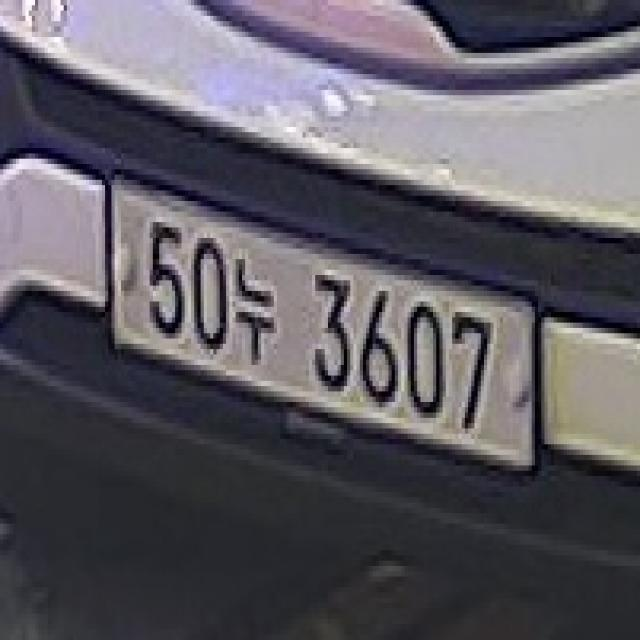0: (408, 298, 444, 423), (193, 230, 226, 354)
3: (306, 262, 354, 395)
5: (148, 217, 188, 340)
6: (358, 285, 401, 413)
7: (451, 309, 494, 442)
license_plate: (103, 170, 548, 482)
nu: (232, 250, 280, 360)
